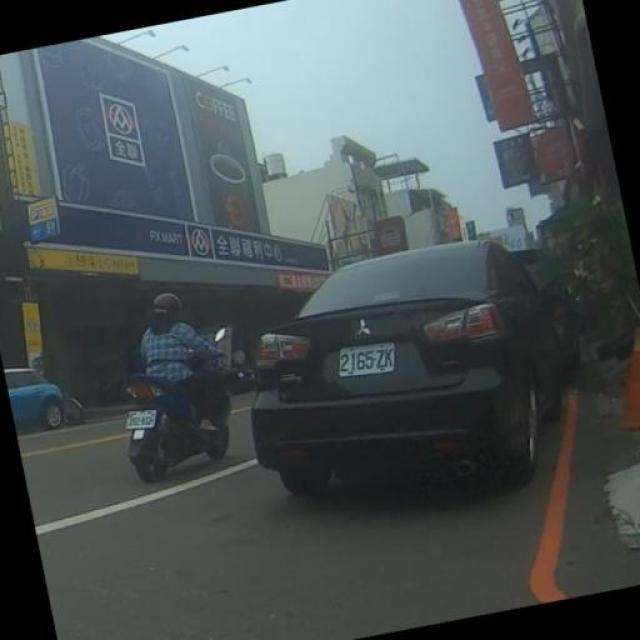Legalparking: (221, 212, 567, 549)
